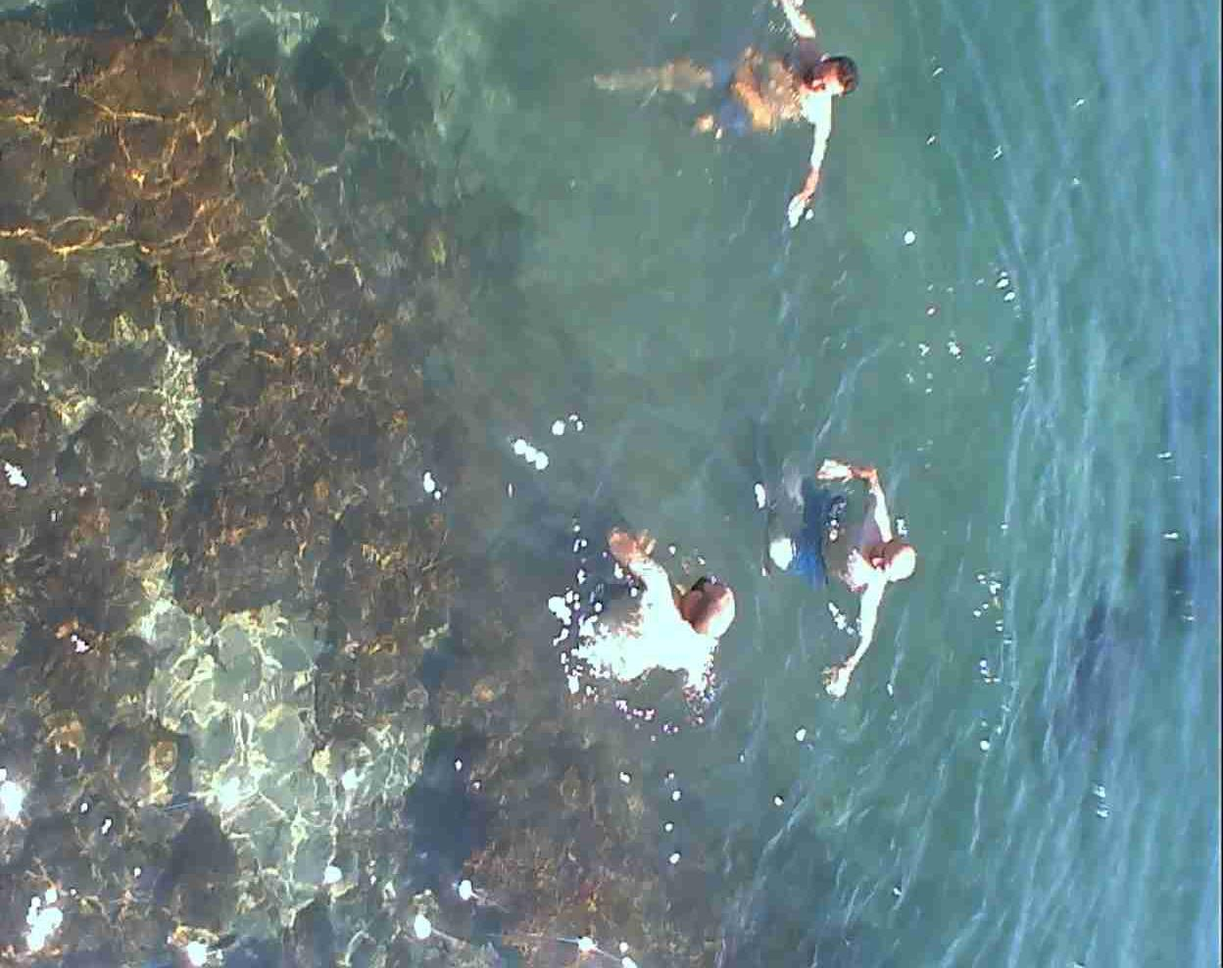human: (646, 0, 850, 241), (784, 432, 911, 710), (585, 520, 729, 711)
